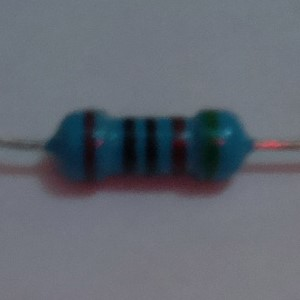black_band: (142, 114, 161, 179), (121, 113, 137, 177)
brown_band: (80, 105, 98, 183), (169, 112, 190, 177)
green_band: (198, 105, 222, 184)
